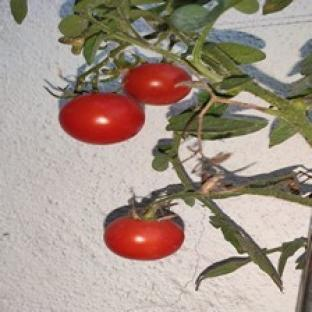Tomato: (59, 94, 144, 144), (104, 216, 183, 260), (123, 63, 190, 105)
